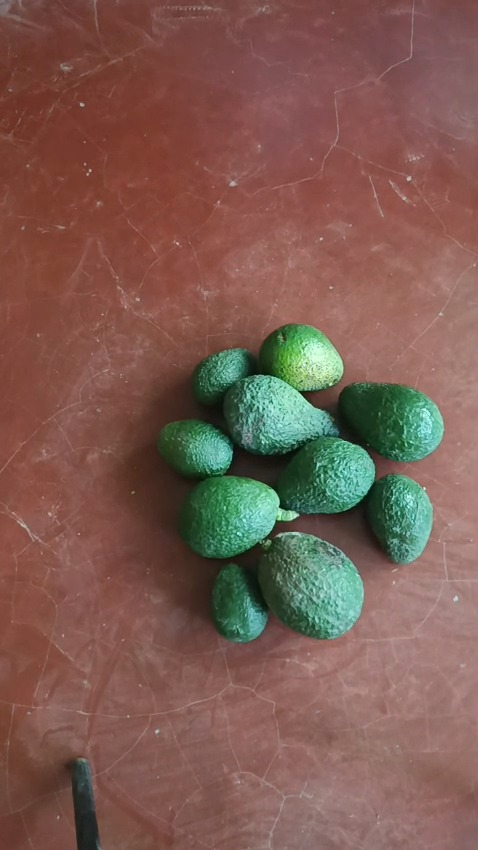Primera: (256, 531, 363, 637), (223, 375, 340, 456), (338, 382, 445, 461), (178, 475, 279, 558), (274, 436, 376, 514)
Segunda: (364, 473, 434, 563), (257, 321, 344, 392)
Tercera: (210, 564, 270, 643), (157, 419, 234, 478), (192, 346, 255, 406)
